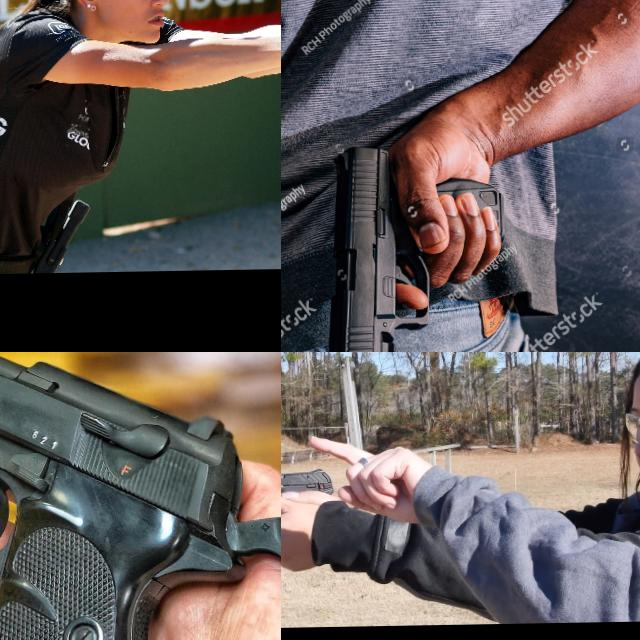handgun: (0, 352, 281, 640), (317, 138, 436, 352), (281, 467, 335, 521)
